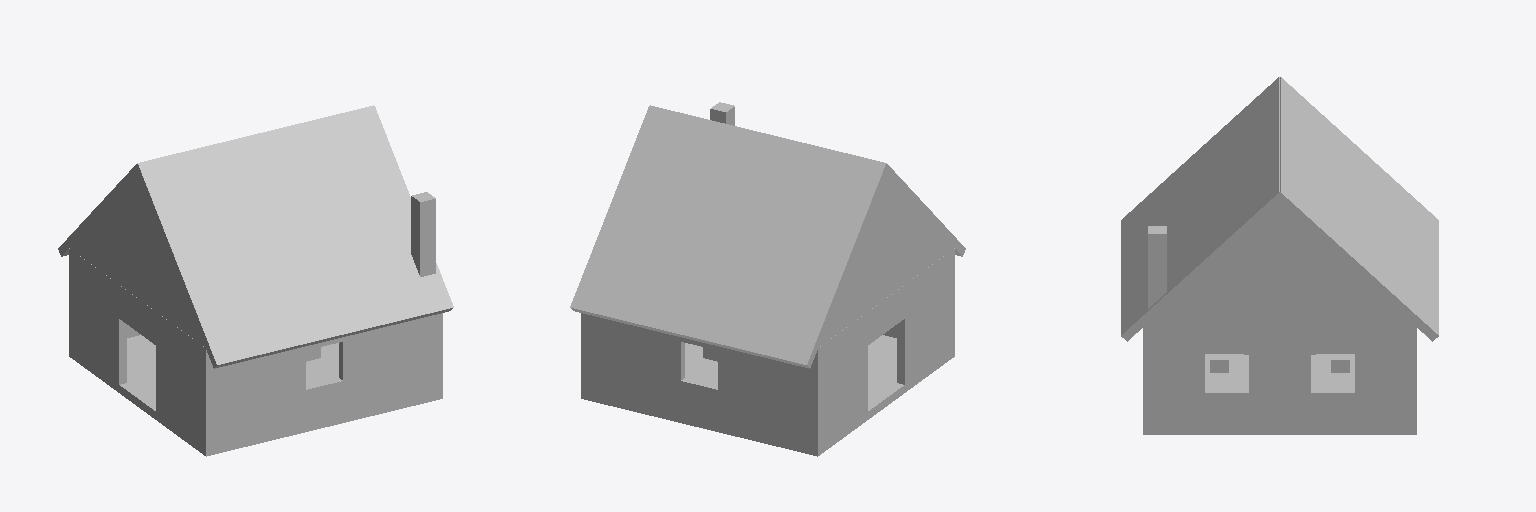
The model's file is cabin.obj.
3 views of the same model, side by side, from view 1: azimuth 30°, elevation 25°; view 2: azimuth 150°, elevation 25°; view 3: azimuth 270°, elevation 25° (orthographic).
Parts seen in each view (by area): view 1: Cabin00; view 2: Cabin00; view 3: Cabin00.
Boxes of the visible parts, x1=… form: Cabin00: x1=58, y1=105, x2=453, y2=456; Cabin00: x1=570, y1=102, x2=965, y2=456; Cabin00: x1=1121, y1=77, x2=1438, y2=434.
Size of the model in its own units: 7.5 by 7.36 by 8.73.